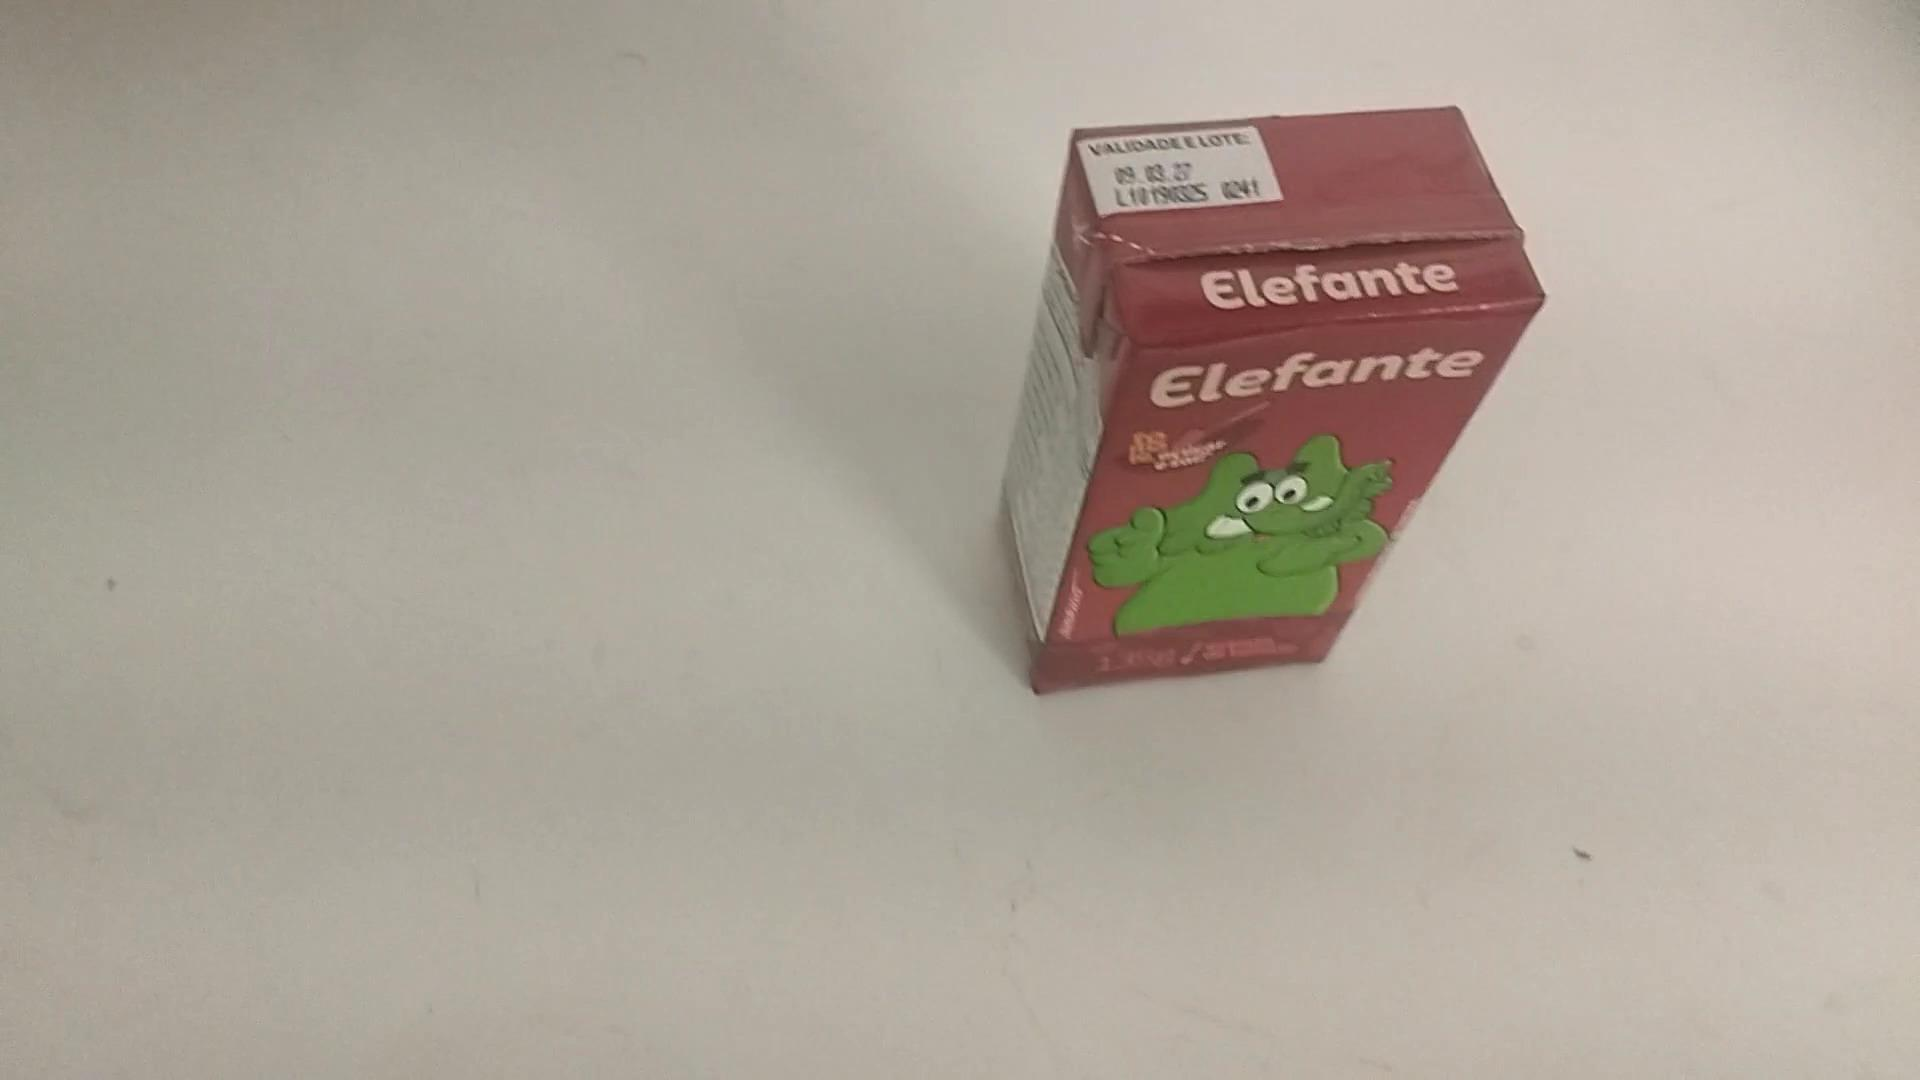tomate: (986, 95, 1563, 708)
